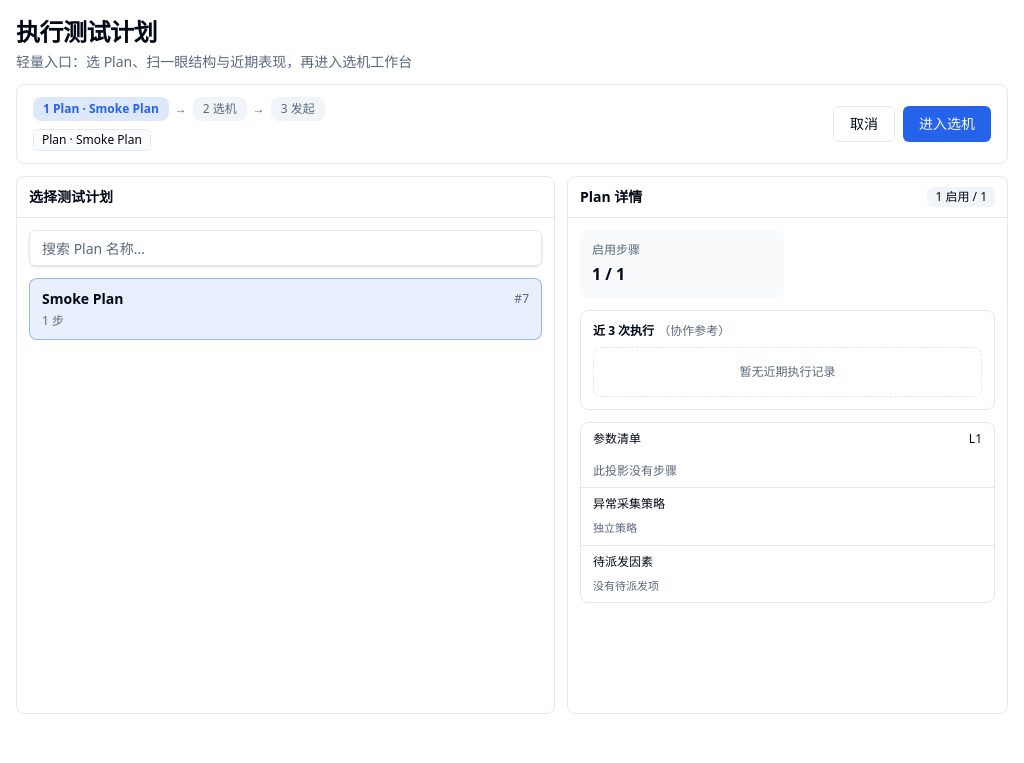
Test case: PlanExecutePage › 就绪度必须拿到退役主机（includeRetired=true），否则退役门恒空转（#2053）
Expected: the text "启用步骤" is shown, left=592, top=241, right=640, bottom=258
Click the button "进入选机" at {"x": 947, "y": 124}, box left=903, top=106, right=991, bottom=142
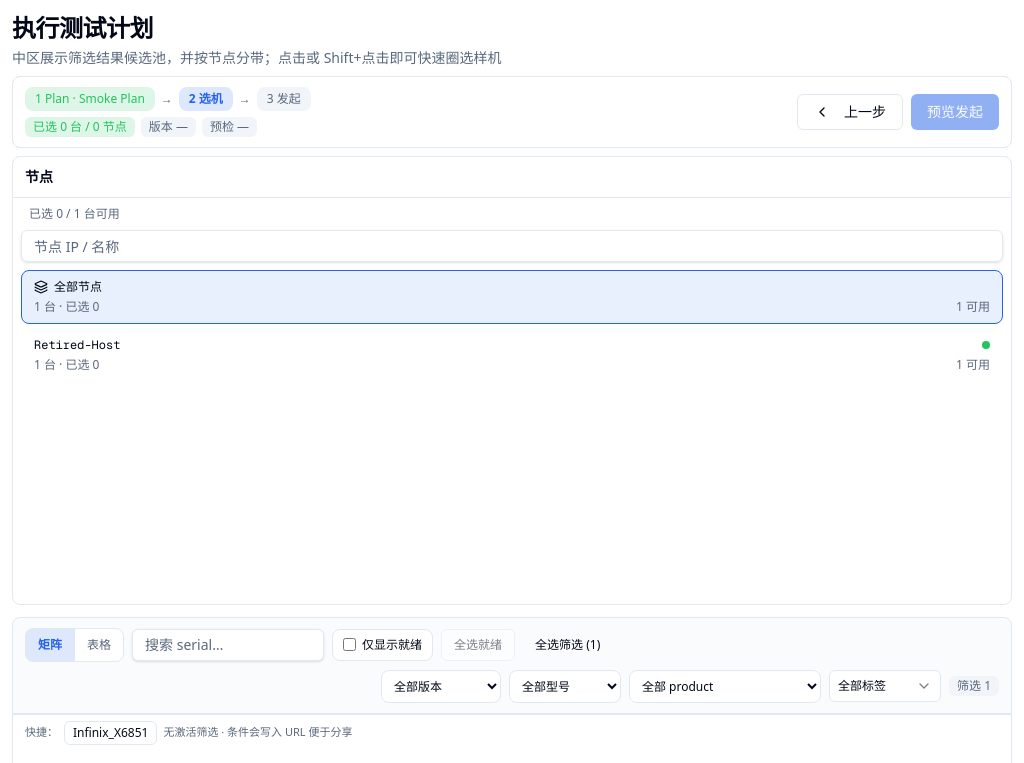
Click the button "表格" at {"x": 98, "y": 644}, box left=74, top=628, right=123, bottom=660
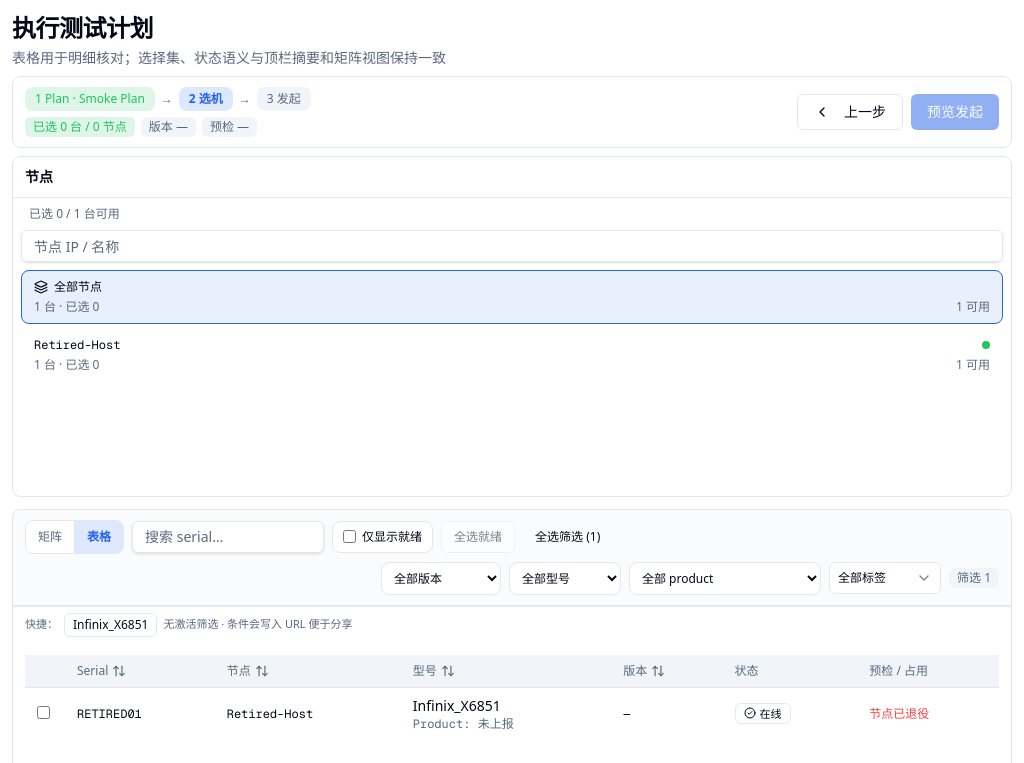
Expected: the checkbox named "RETIRED01" is shown, left=37, top=706, right=50, bottom=718
